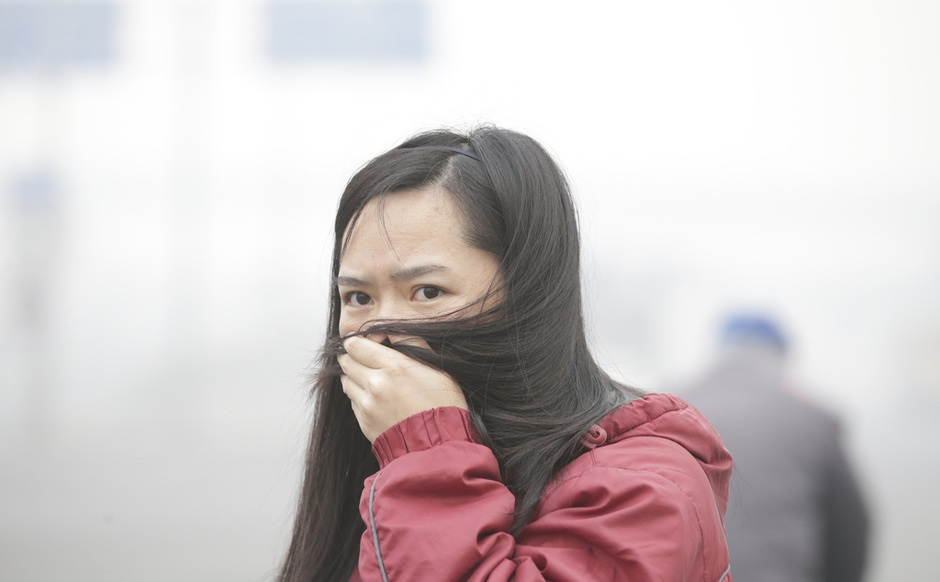face: (336, 197, 509, 417)
